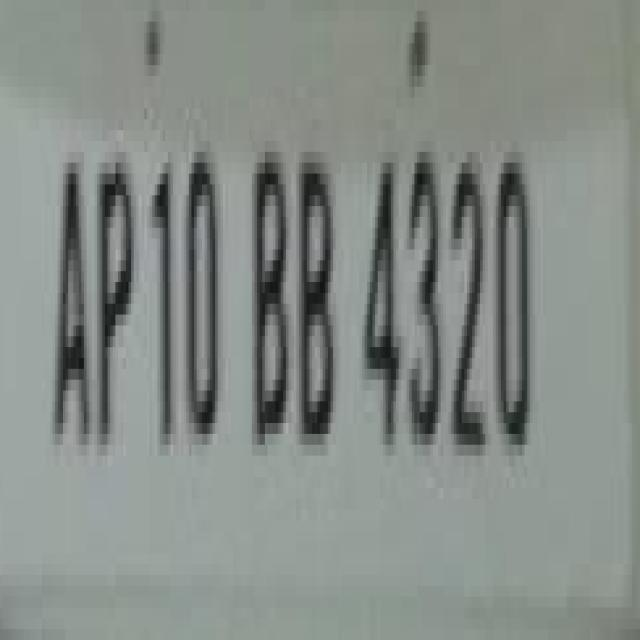license_plate: (0, 33, 611, 629)
